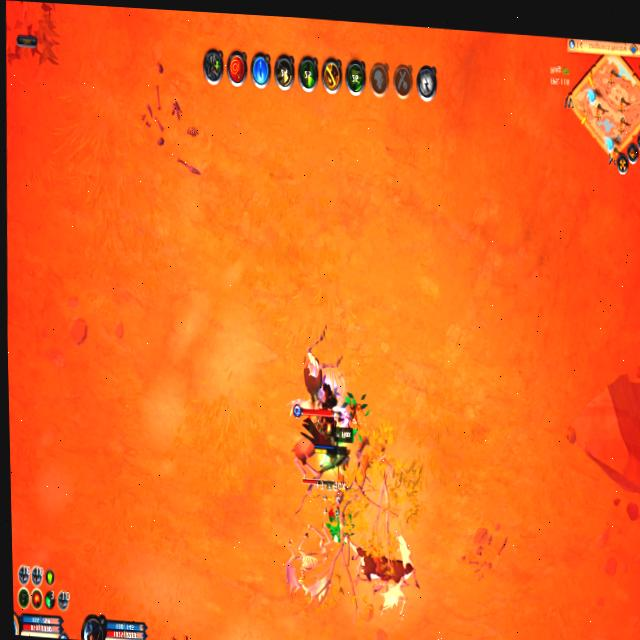hide: (324, 509, 352, 546)
mob: (353, 529, 421, 610), (299, 320, 344, 402), (291, 428, 320, 482)
ore: (299, 405, 343, 490)
red: (311, 372, 350, 459)
